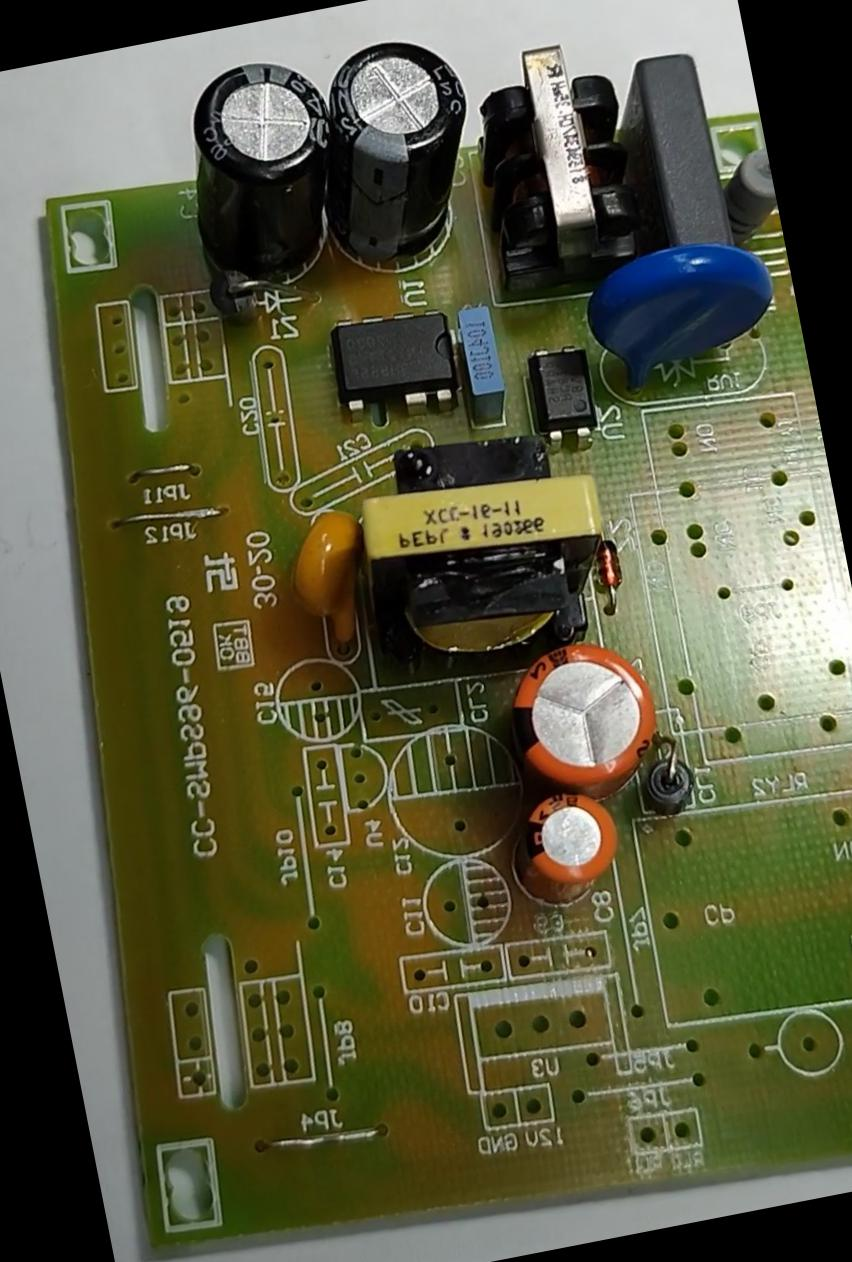Cap1: (485, 622, 686, 821)
Cap2: (489, 779, 637, 924)
Cap3: (294, 20, 510, 294)
Cap4: (153, 37, 366, 314)
MOSFET: (310, 293, 482, 443)
Mov: (562, 224, 798, 416)
Resistor: (704, 141, 783, 252)
Transformer: (316, 414, 632, 704), (453, 24, 676, 310)
